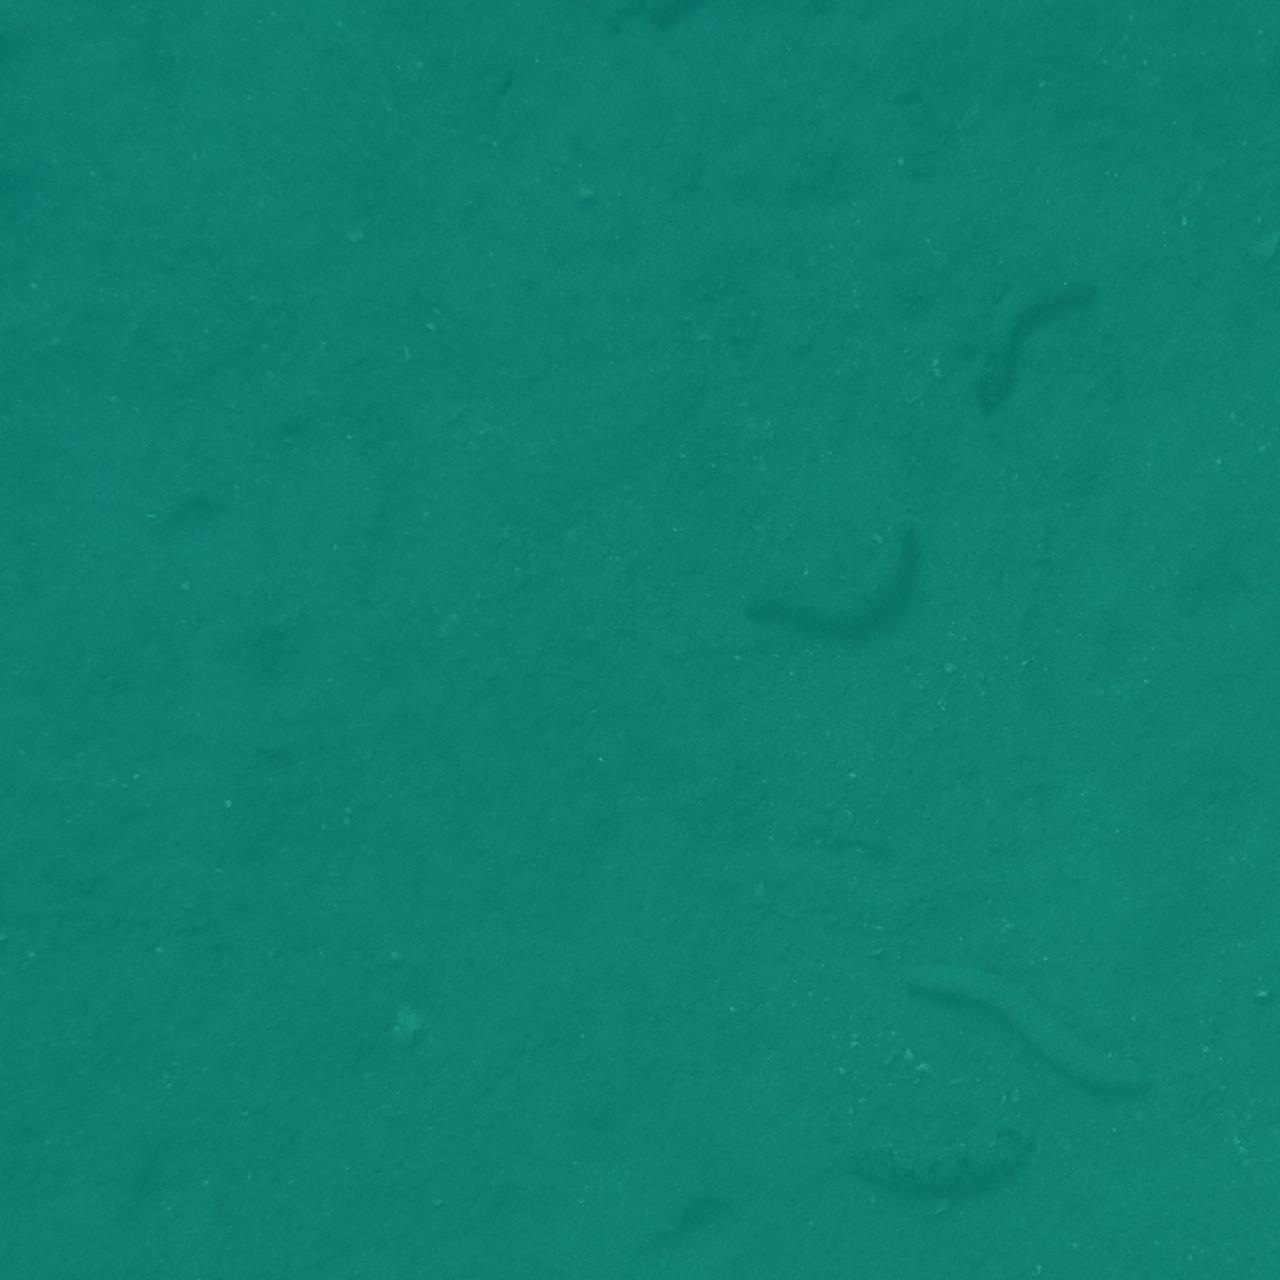Holothuria tubulosa: (893, 946, 1152, 1107), (940, 272, 1105, 435), (733, 523, 935, 655), (0, 149, 151, 312), (184, 0, 443, 88), (1126, 756, 1280, 898), (226, 1211, 533, 1280), (794, 1155, 959, 1280), (607, 0, 749, 138), (0, 474, 56, 794), (0, 896, 113, 1042), (847, 1122, 1046, 1200), (0, 493, 137, 602), (0, 1178, 118, 1280), (0, 0, 149, 77), (661, 1151, 750, 1280), (1207, 0, 1280, 156), (1020, 1205, 1166, 1280), (0, 1205, 142, 1280), (1182, 767, 1280, 870), (354, 1234, 576, 1280), (52, 1186, 150, 1280), (1189, 1186, 1280, 1280), (0, 0, 118, 69), (1210, 0, 1280, 113), (1184, 0, 1280, 75), (1217, 1175, 1280, 1280)
